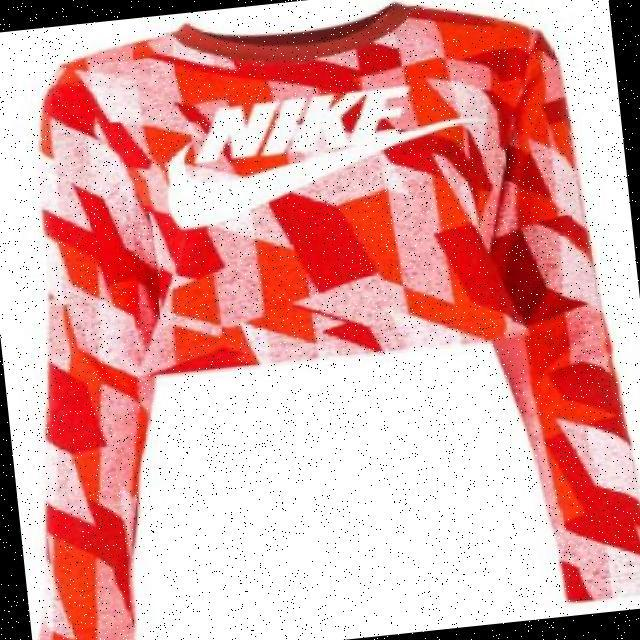Nike: (150, 73, 497, 231)
